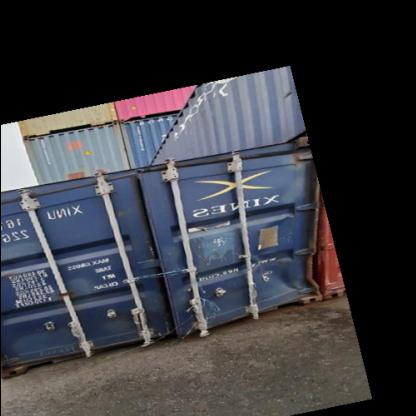Damage: (266, 256, 326, 302), (175, 289, 226, 330), (184, 224, 235, 262), (140, 230, 168, 276), (100, 200, 134, 222)
